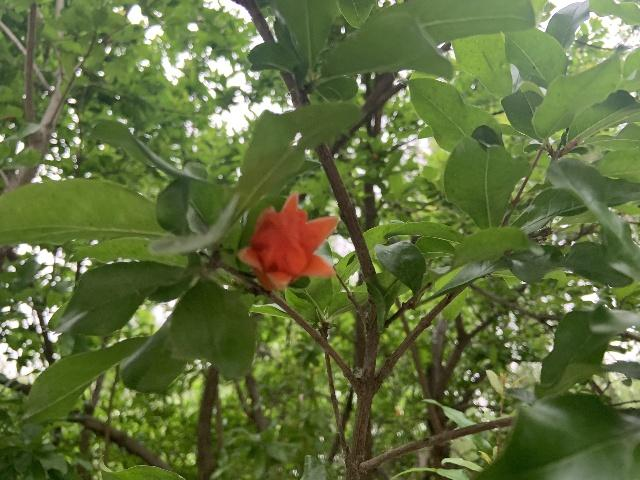flower: (237, 191, 338, 291)
